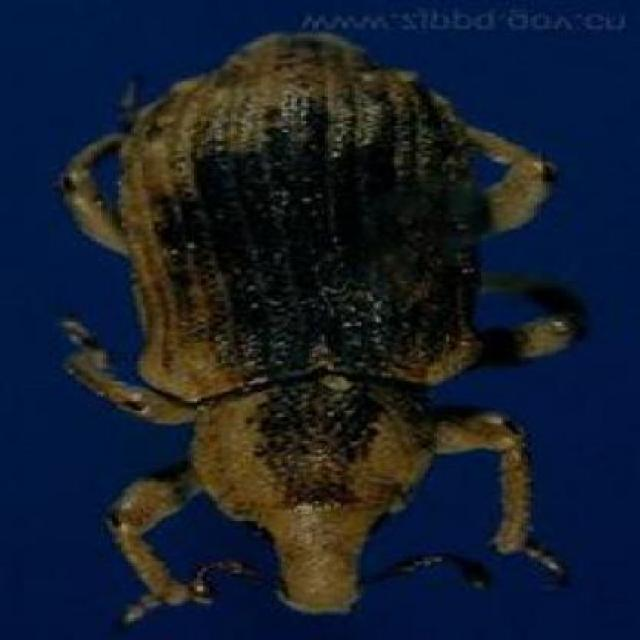rice-bug: (52, 34, 582, 615)
